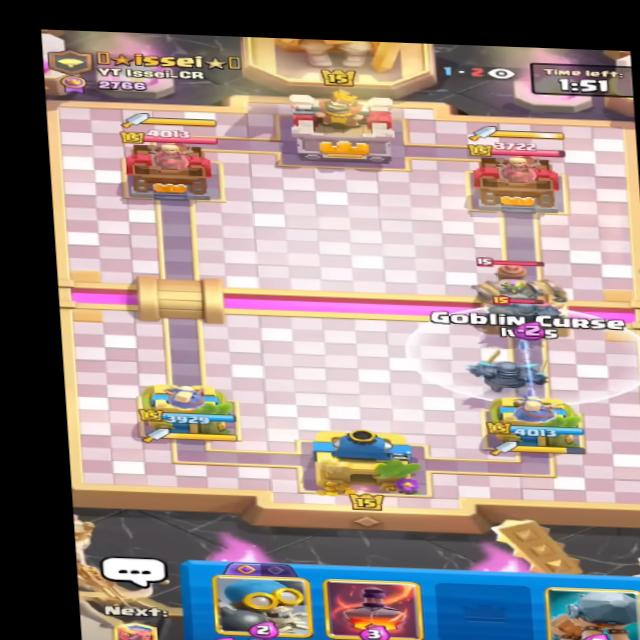Goblinmachine: (468, 257, 564, 310)
Pekka: (470, 288, 569, 337)
